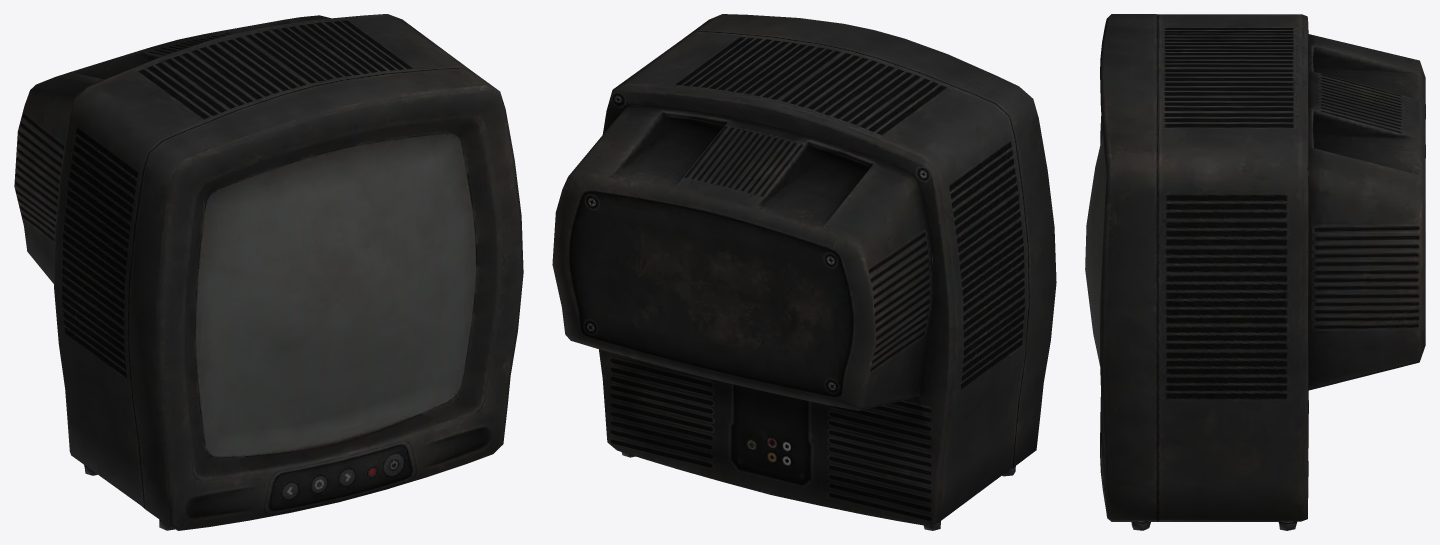
The picture shows the model from 3 angles, left to right: view 1: azimuth 30°, elevation 25°; view 2: azimuth 150°, elevation 25°; view 3: azimuth 270°, elevation 25°; orthographic projection. The views are drawn at different scales.
Visible parts, largest first — view 1: Object_2; view 2: Object_2; view 3: Object_2.
Part boxes in pixels (x1,y1,x2,y2): Object_2: (14, 14, 523, 530); Object_2: (552, 14, 1056, 530); Object_2: (1085, 14, 1425, 530).
Bounding box in the file's own units: 33.99 × 35.15 × 27.94.
Materials: 1 (1 with a texture image).
